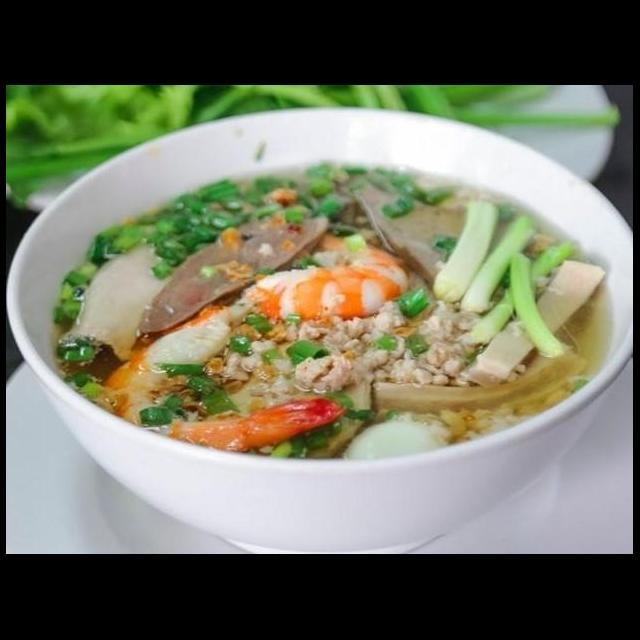gan: (352, 175, 482, 292)
thit bam: (213, 296, 502, 416)
thit heo: (54, 232, 188, 366)
tom: (94, 302, 350, 454), (228, 222, 414, 324)
trung: (336, 412, 456, 472)
